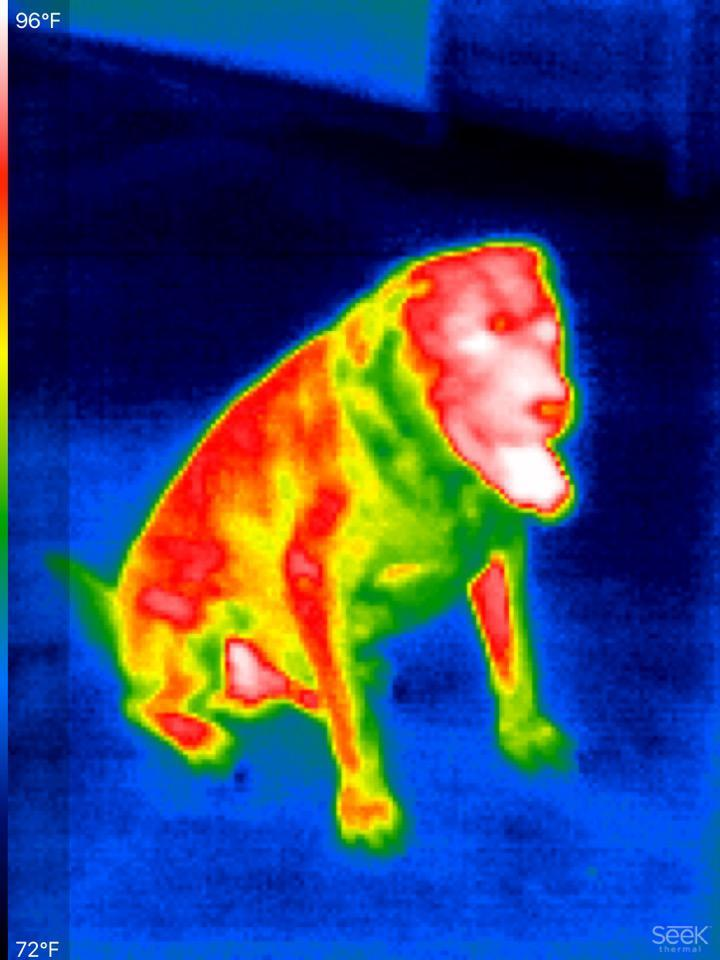dog: (92, 228, 593, 850)
